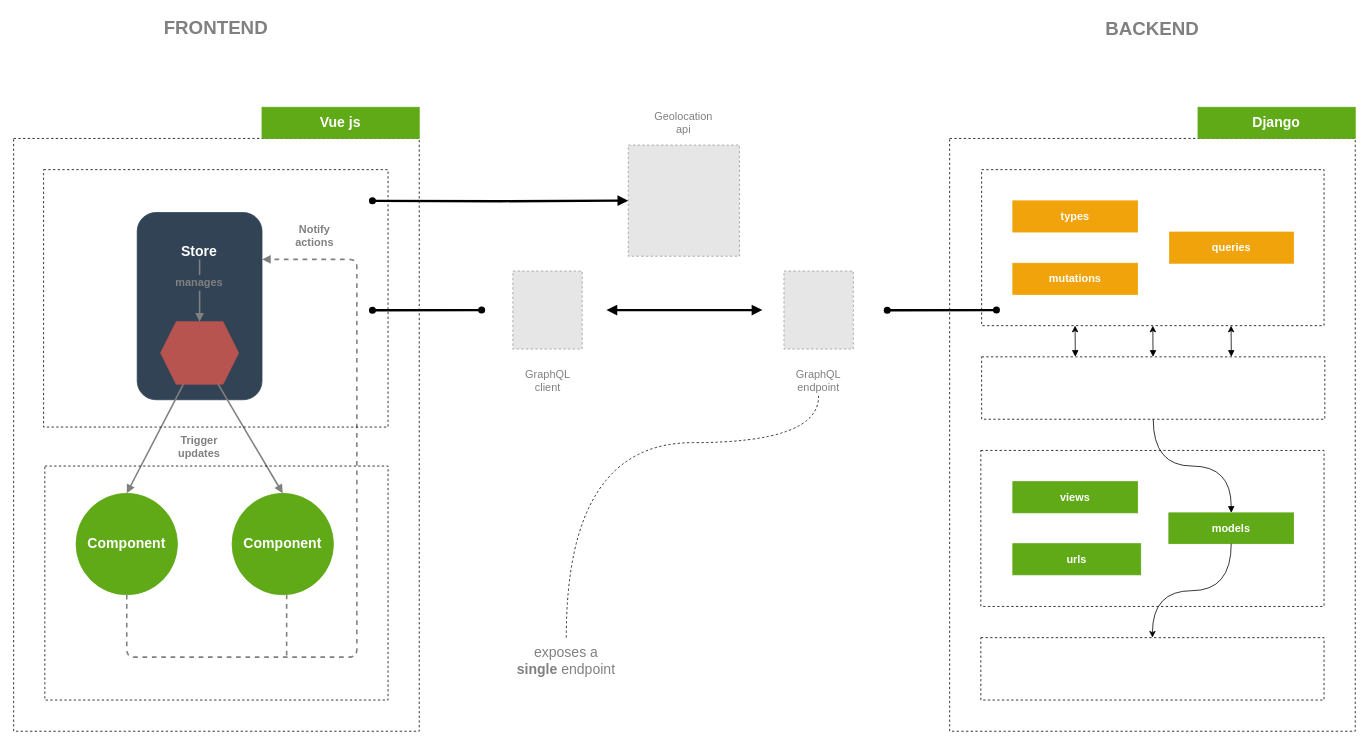
The diagram is 1369 pixels wide and 746 high, and some of its shapes have lost their labels. Grey dashed boxes stand in for pictures. The shapes that lost their labels are listed below. From the top down, each one's centre as x and y in pixels, then its label:
pixel 199 352: Shared State
pixel 1153 387: Resolvers
pixel 1152 668: Database
